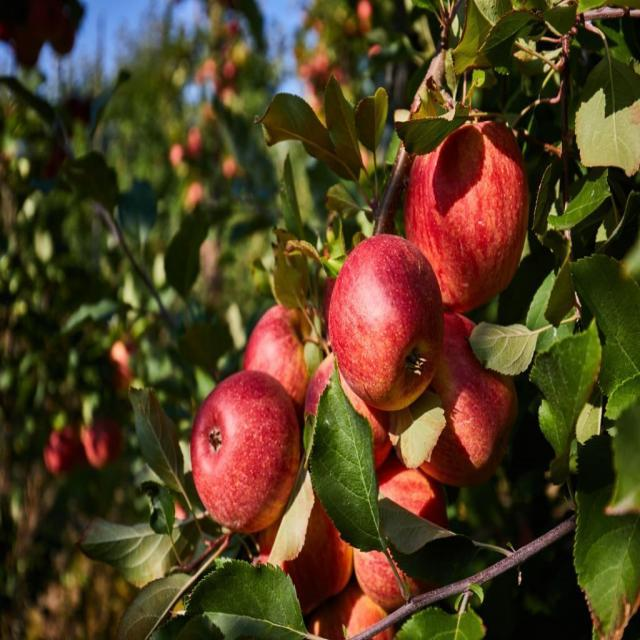Red Apple: (408, 124, 529, 303), (336, 236, 441, 401), (192, 370, 304, 524), (416, 310, 516, 477), (359, 460, 453, 602), (270, 468, 354, 600), (313, 340, 398, 463), (247, 296, 320, 401), (316, 584, 391, 640), (80, 412, 121, 464), (49, 427, 81, 475), (107, 336, 140, 382), (303, 51, 335, 82), (343, 1, 375, 30), (185, 182, 207, 209), (167, 141, 187, 170), (224, 154, 242, 178), (185, 131, 203, 153), (224, 17, 242, 36), (207, 52, 223, 73), (222, 64, 238, 85)
